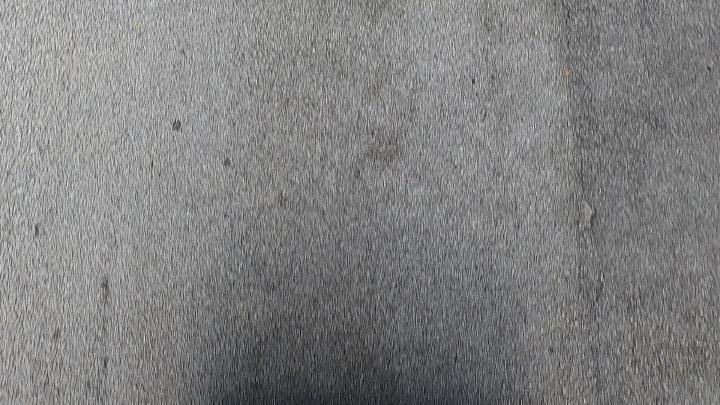Crack: (544, 0, 601, 405), (548, 0, 606, 397)
